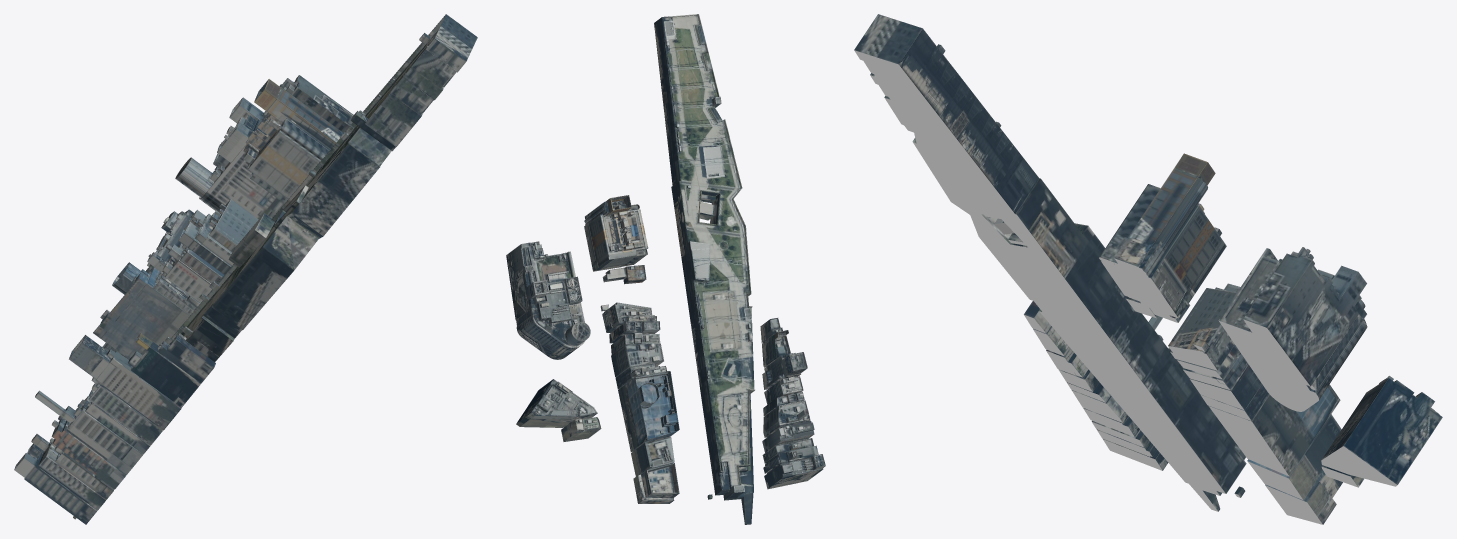
The model's file is l2_data473.glb.
3 renders of one model, left to right at view 1: azimuth 30°, elevation 25°; view 2: azimuth 150°, elevation 25°; view 3: azimuth 270°, elevation 25°, orthographic. The views are drawn at different scales.
Bounding box in the file's own units: 202 × 267 × 230.
2 materials, 1 textured.
